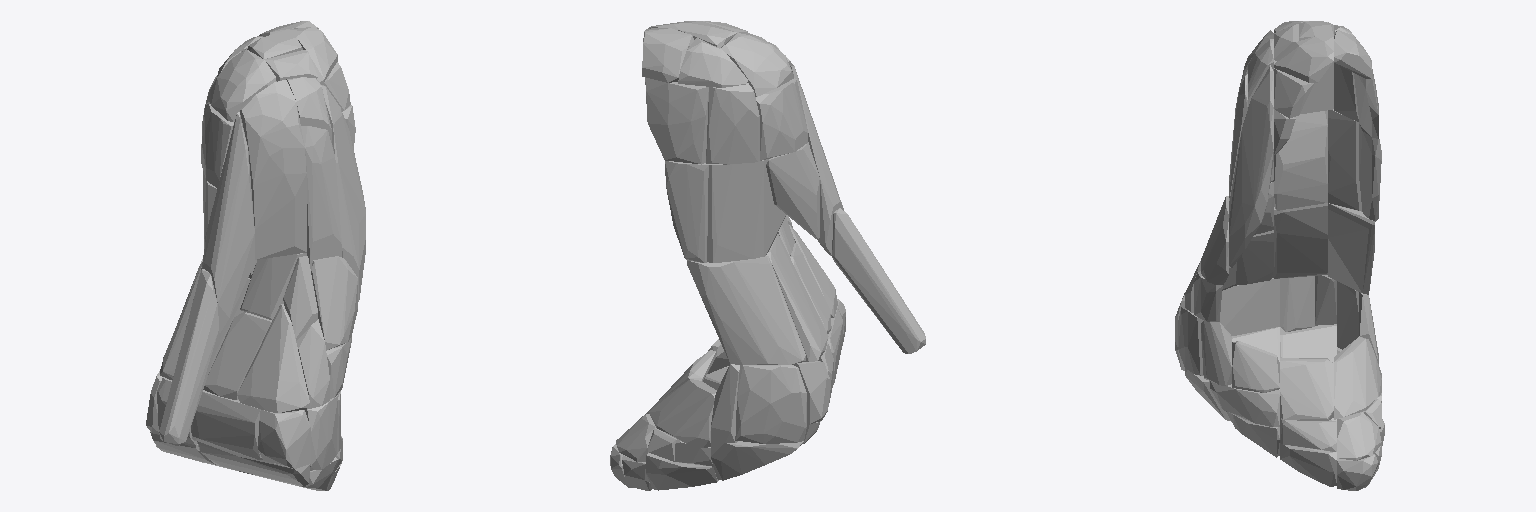
--- Facts derived from the render (not from the file) ---
3 views of the same robot in one strip: view 1: azimuth 30°, elevation 25°; view 2: azimuth 150°, elevation 25°; view 3: azimuth 270°, elevation 25° (orthographic).
Model root with 57 links and 56 joints (56 fixed), rooted at link_4fcd289d3e82bb08588f04a271bfa5eb1_convex_piece_0, posed all joints at 0.
Visible links, largest first — view 1: link_4fcd289d3e82bb08588f04a271bfa5eb1_convex_piece_49, link_4fcd289d3e82bb08588f04a271bfa5eb1_convex_piece_41, link_4fcd289d3e82bb08588f04a271bfa5eb1_convex_piece_0, link_4fcd289d3e82bb08588f04a271bfa5eb1_convex_piece_16, link_4fcd289d3e82bb08588f04a271bfa5eb1_convex_piece_18, link_4fcd289d3e82bb08588f04a271bfa5eb1_convex_piece_5, link_4fcd289d3e82bb08588f04a271bfa5eb1_convex_piece_4, link_4fcd289d3e82bb08588f04a271bfa5eb1_convex_piece_9, link_4fcd289d3e82bb08588f04a271bfa5eb1_convex_piece_17, link_4fcd289d3e82bb08588f04a271bfa5eb1_convex_piece_8, link_4fcd289d3e82bb08588f04a271bfa5eb1_convex_piece_25, link_4fcd289d3e82bb08588f04a271bfa5eb1_convex_piece_48 (+14 smaller); view 2: link_4fcd289d3e82bb08588f04a271bfa5eb1_convex_piece_7, link_4fcd289d3e82bb08588f04a271bfa5eb1_convex_piece_22, link_4fcd289d3e82bb08588f04a271bfa5eb1_convex_piece_36, link_4fcd289d3e82bb08588f04a271bfa5eb1_convex_piece_0, link_4fcd289d3e82bb08588f04a271bfa5eb1_convex_piece_27, link_4fcd289d3e82bb08588f04a271bfa5eb1_convex_piece_26, link_4fcd289d3e82bb08588f04a271bfa5eb1_convex_piece_23, link_4fcd289d3e82bb08588f04a271bfa5eb1_convex_piece_20, link_4fcd289d3e82bb08588f04a271bfa5eb1_convex_piece_15, link_4fcd289d3e82bb08588f04a271bfa5eb1_convex_piece_24, link_4fcd289d3e82bb08588f04a271bfa5eb1_convex_piece_6, link_4fcd289d3e82bb08588f04a271bfa5eb1_convex_piece_25 (+17 smaller); view 3: link_4fcd289d3e82bb08588f04a271bfa5eb1_convex_piece_5, link_4fcd289d3e82bb08588f04a271bfa5eb1_convex_piece_21, link_4fcd289d3e82bb08588f04a271bfa5eb1_convex_piece_6, link_4fcd289d3e82bb08588f04a271bfa5eb1_convex_piece_7, link_4fcd289d3e82bb08588f04a271bfa5eb1_convex_piece_14, link_4fcd289d3e82bb08588f04a271bfa5eb1_convex_piece_15, link_4fcd289d3e82bb08588f04a271bfa5eb1_convex_piece_22, link_4fcd289d3e82bb08588f04a271bfa5eb1_convex_piece_9, link_4fcd289d3e82bb08588f04a271bfa5eb1_convex_piece_33, link_4fcd289d3e82bb08588f04a271bfa5eb1_convex_piece_44, link_4fcd289d3e82bb08588f04a271bfa5eb1_convex_piece_31, link_4fcd289d3e82bb08588f04a271bfa5eb1_convex_piece_34 (+27 smaller).
Boxes of the visible links, left/top/right/bottom form: link_4fcd289d3e82bb08588f04a271bfa5eb1_convex_piece_49: left=240, top=80, right=306, bottom=259; link_4fcd289d3e82bb08588f04a271bfa5eb1_convex_piece_41: left=201, top=112, right=254, bottom=332; link_4fcd289d3e82bb08588f04a271bfa5eb1_convex_piece_0: left=159, top=269, right=218, bottom=445; link_4fcd289d3e82bb08588f04a271bfa5eb1_convex_piece_16: left=237, top=304, right=309, bottom=412; link_4fcd289d3e82bb08588f04a271bfa5eb1_convex_piece_18: left=301, top=126, right=341, bottom=270; link_4fcd289d3e82bb08588f04a271bfa5eb1_convex_piece_5: left=321, top=85, right=365, bottom=301; link_4fcd289d3e82bb08588f04a271bfa5eb1_convex_piece_4: left=311, top=256, right=357, bottom=350; link_4fcd289d3e82bb08588f04a271bfa5eb1_convex_piece_9: left=191, top=390, right=262, bottom=459; link_4fcd289d3e82bb08588f04a271bfa5eb1_convex_piece_17: left=203, top=312, right=271, bottom=399; link_4fcd289d3e82bb08588f04a271bfa5eb1_convex_piece_8: left=258, top=410, right=310, bottom=468; link_4fcd289d3e82bb08588f04a271bfa5eb1_convex_piece_25: left=208, top=49, right=276, bottom=121; link_4fcd289d3e82bb08588f04a271bfa5eb1_convex_piece_48: left=240, top=253, right=306, bottom=320; link_4fcd289d3e82bb08588f04a271bfa5eb1_convex_piece_7: left=687, top=256, right=805, bottom=364; link_4fcd289d3e82bb08588f04a271bfa5eb1_convex_piece_22: left=707, top=160, right=765, bottom=262; link_4fcd289d3e82bb08588f04a271bfa5eb1_convex_piece_36: left=735, top=365, right=806, bottom=443; link_4fcd289d3e82bb08588f04a271bfa5eb1_convex_piece_0: left=832, top=208, right=925, bottom=353; link_4fcd289d3e82bb08588f04a271bfa5eb1_convex_piece_27: left=645, top=77, right=708, bottom=164; link_4fcd289d3e82bb08588f04a271bfa5eb1_convex_piece_26: left=706, top=83, right=759, bottom=164; link_4fcd289d3e82bb08588f04a271bfa5eb1_convex_piece_23: left=665, top=161, right=708, bottom=262; link_4fcd289d3e82bb08588f04a271bfa5eb1_convex_piece_20: left=766, top=142, right=819, bottom=238; link_4fcd289d3e82bb08588f04a271bfa5eb1_convex_piece_15: left=649, top=379, right=716, bottom=447; link_4fcd289d3e82bb08588f04a271bfa5eb1_convex_piece_24: left=756, top=78, right=807, bottom=160; link_4fcd289d3e82bb08588f04a271bfa5eb1_convex_piece_6: left=766, top=234, right=828, bottom=361; link_4fcd289d3e82bb08588f04a271bfa5eb1_convex_piece_25: left=720, top=33, right=793, bottom=96; link_4fcd289d3e82bb08588f04a271bfa5eb1_convex_piece_5: left=1229, top=65, right=1273, bottom=267; link_4fcd289d3e82bb08588f04a271bfa5eb1_convex_piece_21: left=1274, top=110, right=1327, bottom=210; link_4fcd289d3e82bb08588f04a271bfa5eb1_convex_piece_6: left=1274, top=203, right=1327, bottom=278; link_4fcd289d3e82bb08588f04a271bfa5eb1_convex_piece_7: left=1328, top=203, right=1374, bottom=294; link_4fcd289d3e82bb08588f04a271bfa5eb1_convex_piece_14: left=1280, top=358, right=1333, bottom=420; link_4fcd289d3e82bb08588f04a271bfa5eb1_convex_piece_15: left=1334, top=336, right=1381, bottom=419; link_4fcd289d3e82bb08588f04a271bfa5eb1_convex_piece_22: left=1328, top=109, right=1361, bottom=211; link_4fcd289d3e82bb08588f04a271bfa5eb1_convex_piece_9: left=1220, top=278, right=1279, bottom=335; link_4fcd289d3e82bb08588f04a271bfa5eb1_convex_piece_33: left=1232, top=341, right=1279, bottom=392; link_4fcd289d3e82bb08588f04a271bfa5eb1_convex_piece_44: left=1274, top=36, right=1333, bottom=82; link_4fcd289d3e82bb08588f04a271bfa5eb1_convex_piece_31: left=1210, top=381, right=1279, bottom=426; link_4fcd289d3e82bb08588f04a271bfa5eb1_convex_piece_34: left=1280, top=276, right=1314, bottom=331.
Bounding box of the posed robot: 0.0455 × 0.0362 × 0.0827 m (x, y, z).
57 mesh visuals loaded from 57 distinct referenced files (57 OBJ).

URDF robot description (root):
<robot name="root">
  <link name="link_4fcd289d3e82bb08588f04a271bfa5eb1_convex_piece_0">
    <inertial>
      <origin rpy="0 0 0" xyz="0 0 0"/>
      <mass value="1.57E-07"/>
      <inertia ixx="1.96E-11" ixy="1.83E-11" ixz="1.59E-11" iyy="4.86E-11" iyz="7.99E-12" izz="4.72E-11"/>
    </inertial>
    <visual>
      <origin rpy="0 0 0" xyz="0 0 0"/>
      <geometry>
        <mesh filename="4fcd289d3e82bb08588f04a271bfa5eb1_convex_piece_0.obj" scale="1.0000E+00"/>
      </geometry>
      <material name="">
        <color rgba="7.50E-01 7.50E-01 7.50E-01 1"/>
      </material>
    </visual>
    <collision>
      <origin rpy="0 0 0" xyz="0 0 0"/>
      <geometry>
        <mesh filename="4fcd289d3e82bb08588f04a271bfa5eb1_convex_piece_0.obj" scale="1.0000E+00"/>
      </geometry>
    </collision>
  </link>
  <link name="link_4fcd289d3e82bb08588f04a271bfa5eb1_convex_piece_1">
    <inertial>
      <origin rpy="0 0 0" xyz="0 0 0"/>
      <mass value="1.71E-08"/>
      <inertia ixx="2.85E-11" ixy="4.52E-12" ixz="-1.06E-11" iyy="2.88E-11" iyz="-1.03E-11" izz="9.09E-12"/>
    </inertial>
    <visual>
      <origin rpy="0 0 0" xyz="0 0 0"/>
      <geometry>
        <mesh filename="4fcd289d3e82bb08588f04a271bfa5eb1_convex_piece_1.obj" scale="1.0000E+00"/>
      </geometry>
      <material name="">
        <color rgba="7.50E-01 7.50E-01 7.50E-01 1"/>
      </material>
    </visual>
    <collision>
      <origin rpy="0 0 0" xyz="0 0 0"/>
      <geometry>
        <mesh filename="4fcd289d3e82bb08588f04a271bfa5eb1_convex_piece_1.obj" scale="1.0000E+00"/>
      </geometry>
    </collision>
  </link>
  <joint name="link_4fcd289d3e82bb08588f04a271bfa5eb1_convex_piece_1_joint" type="fixed">
    <origin rpy="0 0 0" xyz="0 0 0"/>
    <parent link="link_4fcd289d3e82bb08588f04a271bfa5eb1_convex_piece_0"/>
    <child link="link_4fcd289d3e82bb08588f04a271bfa5eb1_convex_piece_1"/>
  </joint>
  <link name="link_4fcd289d3e82bb08588f04a271bfa5eb1_convex_piece_2">
    <inertial>
      <origin rpy="0 0 0" xyz="0 0 0"/>
      <mass value="1.72E-07"/>
      <inertia ixx="1.33E-10" ixy="2.06E-12" ixz="1.14E-11" iyy="1.23E-10" iyz="3.09E-11" izz="1.42E-11"/>
    </inertial>
    <visual>
      <origin rpy="0 0 0" xyz="0 0 0"/>
      <geometry>
        <mesh filename="4fcd289d3e82bb08588f04a271bfa5eb1_convex_piece_2.obj" scale="1.0000E+00"/>
      </geometry>
      <material name="">
        <color rgba="7.50E-01 7.50E-01 7.50E-01 1"/>
      </material>
    </visual>
    <collision>
      <origin rpy="0 0 0" xyz="0 0 0"/>
      <geometry>
        <mesh filename="4fcd289d3e82bb08588f04a271bfa5eb1_convex_piece_2.obj" scale="1.0000E+00"/>
      </geometry>
    </collision>
  </link>
  <joint name="link_4fcd289d3e82bb08588f04a271bfa5eb1_convex_piece_2_joint" type="fixed">
    <origin rpy="0 0 0" xyz="0 0 0"/>
    <parent link="link_4fcd289d3e82bb08588f04a271bfa5eb1_convex_piece_1"/>
    <child link="link_4fcd289d3e82bb08588f04a271bfa5eb1_convex_piece_2"/>
  </joint>
  <link name="link_4fcd289d3e82bb08588f04a271bfa5eb1_convex_piece_3">
    <inertial>
      <origin rpy="0 0 0" xyz="0 0 0"/>
      <mass value="3.84E-08"/>
      <inertia ixx="9.57E-12" ixy="-4.23E-12" ixz="-3.29E-12" iyy="6.94E-12" iyz="4.55E-12" izz="9.05E-12"/>
    </inertial>
    <visual>
      <origin rpy="0 0 0" xyz="0 0 0"/>
      <geometry>
        <mesh filename="4fcd289d3e82bb08588f04a271bfa5eb1_convex_piece_3.obj" scale="1.0000E+00"/>
      </geometry>
      <material name="">
        <color rgba="7.50E-01 7.50E-01 7.50E-01 1"/>
      </material>
    </visual>
    <collision>
      <origin rpy="0 0 0" xyz="0 0 0"/>
      <geometry>
        <mesh filename="4fcd289d3e82bb08588f04a271bfa5eb1_convex_piece_3.obj" scale="1.0000E+00"/>
      </geometry>
    </collision>
  </link>
  <joint name="link_4fcd289d3e82bb08588f04a271bfa5eb1_convex_piece_3_joint" type="fixed">
    <origin rpy="0 0 0" xyz="0 0 0"/>
    <parent link="link_4fcd289d3e82bb08588f04a271bfa5eb1_convex_piece_2"/>
    <child link="link_4fcd289d3e82bb08588f04a271bfa5eb1_convex_piece_3"/>
  </joint>
  <link name="link_4fcd289d3e82bb08588f04a271bfa5eb1_convex_piece_4">
    <inertial>
      <origin rpy="0 0 0" xyz="0 0 0"/>
      <mass value="8.29E-08"/>
      <inertia ixx="9.86E-12" ixy="-8.49E-12" ixz="9.23E-14" iyy="9.59E-12" iyz="9.38E-14" izz="1.75E-11"/>
    </inertial>
    <visual>
      <origin rpy="0 0 0" xyz="0 0 0"/>
      <geometry>
        <mesh filename="4fcd289d3e82bb08588f04a271bfa5eb1_convex_piece_4.obj" scale="1.0000E+00"/>
      </geometry>
      <material name="">
        <color rgba="7.50E-01 7.50E-01 7.50E-01 1"/>
      </material>
    </visual>
    <collision>
      <origin rpy="0 0 0" xyz="0 0 0"/>
      <geometry>
        <mesh filename="4fcd289d3e82bb08588f04a271bfa5eb1_convex_piece_4.obj" scale="1.0000E+00"/>
      </geometry>
    </collision>
  </link>
  <joint name="link_4fcd289d3e82bb08588f04a271bfa5eb1_convex_piece_4_joint" type="fixed">
    <origin rpy="0 0 0" xyz="0 0 0"/>
    <parent link="link_4fcd289d3e82bb08588f04a271bfa5eb1_convex_piece_3"/>
    <child link="link_4fcd289d3e82bb08588f04a271bfa5eb1_convex_piece_4"/>
  </joint>
  <link name="link_4fcd289d3e82bb08588f04a271bfa5eb1_convex_piece_5">
    <inertial>
      <origin rpy="0 0 0" xyz="0 0 0"/>
      <mass value="1.77E-07"/>
      <inertia ixx="6.44E-11" ixy="-1.23E-11" ixz="4.41E-11" iyy="1.02E-10" iyz="-1.13E-11" izz="4.59E-11"/>
    </inertial>
    <visual>
      <origin rpy="0 0 0" xyz="0 0 0"/>
      <geometry>
        <mesh filename="4fcd289d3e82bb08588f04a271bfa5eb1_convex_piece_5.obj" scale="1.0000E+00"/>
      </geometry>
      <material name="">
        <color rgba="7.50E-01 7.50E-01 7.50E-01 1"/>
      </material>
    </visual>
    <collision>
      <origin rpy="0 0 0" xyz="0 0 0"/>
      <geometry>
        <mesh filename="4fcd289d3e82bb08588f04a271bfa5eb1_convex_piece_5.obj" scale="1.0000E+00"/>
      </geometry>
    </collision>
  </link>
  <joint name="link_4fcd289d3e82bb08588f04a271bfa5eb1_convex_piece_5_joint" type="fixed">
    <origin rpy="0 0 0" xyz="0 0 0"/>
    <parent link="link_4fcd289d3e82bb08588f04a271bfa5eb1_convex_piece_4"/>
    <child link="link_4fcd289d3e82bb08588f04a271bfa5eb1_convex_piece_5"/>
  </joint>
  <link name="link_4fcd289d3e82bb08588f04a271bfa5eb1_convex_piece_6">
    <inertial>
      <origin rpy="0 0 0" xyz="0 0 0"/>
      <mass value="2.34E-07"/>
      <inertia ixx="1.77E-11" ixy="-5.59E-12" ixz="1.00E-11" iyy="2.16E-11" iyz="-5.01E-12" izz="1.42E-11"/>
    </inertial>
    <visual>
      <origin rpy="0 0 0" xyz="0 0 0"/>
      <geometry>
        <mesh filename="4fcd289d3e82bb08588f04a271bfa5eb1_convex_piece_6.obj" scale="1.0000E+00"/>
      </geometry>
      <material name="">
        <color rgba="7.50E-01 7.50E-01 7.50E-01 1"/>
      </material>
    </visual>
    <collision>
      <origin rpy="0 0 0" xyz="0 0 0"/>
      <geometry>
        <mesh filename="4fcd289d3e82bb08588f04a271bfa5eb1_convex_piece_6.obj" scale="1.0000E+00"/>
      </geometry>
    </collision>
  </link>
  <joint name="link_4fcd289d3e82bb08588f04a271bfa5eb1_convex_piece_6_joint" type="fixed">
    <origin rpy="0 0 0" xyz="0 0 0"/>
    <parent link="link_4fcd289d3e82bb08588f04a271bfa5eb1_convex_piece_5"/>
    <child link="link_4fcd289d3e82bb08588f04a271bfa5eb1_convex_piece_6"/>
  </joint>
  <link name="link_4fcd289d3e82bb08588f04a271bfa5eb1_convex_piece_7">
    <inertial>
      <origin rpy="0 0 0" xyz="0 0 0"/>
      <mass value="2.21E-07"/>
      <inertia ixx="4.40E-11" ixy="-4.95E-12" ixz="4.84E-12" iyy="1.45E-11" iyz="-1.31E-11" izz="3.69E-11"/>
    </inertial>
    <visual>
      <origin rpy="0 0 0" xyz="0 0 0"/>
      <geometry>
        <mesh filename="4fcd289d3e82bb08588f04a271bfa5eb1_convex_piece_7.obj" scale="1.0000E+00"/>
      </geometry>
      <material name="">
        <color rgba="7.50E-01 7.50E-01 7.50E-01 1"/>
      </material>
    </visual>
    <collision>
      <origin rpy="0 0 0" xyz="0 0 0"/>
      <geometry>
        <mesh filename="4fcd289d3e82bb08588f04a271bfa5eb1_convex_piece_7.obj" scale="1.0000E+00"/>
      </geometry>
    </collision>
  </link>
  <joint name="link_4fcd289d3e82bb08588f04a271bfa5eb1_convex_piece_7_joint" type="fixed">
    <origin rpy="0 0 0" xyz="0 0 0"/>
    <parent link="link_4fcd289d3e82bb08588f04a271bfa5eb1_convex_piece_6"/>
    <child link="link_4fcd289d3e82bb08588f04a271bfa5eb1_convex_piece_7"/>
  </joint>
  <link name="link_4fcd289d3e82bb08588f04a271bfa5eb1_convex_piece_8">
    <inertial>
      <origin rpy="0 0 0" xyz="0 0 0"/>
      <mass value="8.06E-08"/>
      <inertia ixx="4.74E-11" ixy="2.54E-12" ixz="3.29E-12" iyy="2.95E-11" iyz="2.29E-11" izz="1.91E-11"/>
    </inertial>
    <visual>
      <origin rpy="0 0 0" xyz="0 0 0"/>
      <geometry>
        <mesh filename="4fcd289d3e82bb08588f04a271bfa5eb1_convex_piece_8.obj" scale="1.0000E+00"/>
      </geometry>
      <material name="">
        <color rgba="7.50E-01 7.50E-01 7.50E-01 1"/>
      </material>
    </visual>
    <collision>
      <origin rpy="0 0 0" xyz="0 0 0"/>
      <geometry>
        <mesh filename="4fcd289d3e82bb08588f04a271bfa5eb1_convex_piece_8.obj" scale="1.0000E+00"/>
      </geometry>
    </collision>
  </link>
  <joint name="link_4fcd289d3e82bb08588f04a271bfa5eb1_convex_piece_8_joint" type="fixed">
    <origin rpy="0 0 0" xyz="0 0 0"/>
    <parent link="link_4fcd289d3e82bb08588f04a271bfa5eb1_convex_piece_7"/>
    <child link="link_4fcd289d3e82bb08588f04a271bfa5eb1_convex_piece_8"/>
  </joint>
  <link name="link_4fcd289d3e82bb08588f04a271bfa5eb1_convex_piece_9">
    <inertial>
      <origin rpy="0 0 0" xyz="0 0 0"/>
      <mass value="1.52E-07"/>
      <inertia ixx="6.17E-11" ixy="5.64E-12" ixz="1.97E-11" iyy="6.18E-11" iyz="1.76E-11" izz="1.56E-11"/>
    </inertial>
    <visual>
      <origin rpy="0 0 0" xyz="0 0 0"/>
      <geometry>
        <mesh filename="4fcd289d3e82bb08588f04a271bfa5eb1_convex_piece_9.obj" scale="1.0000E+00"/>
      </geometry>
      <material name="">
        <color rgba="7.50E-01 7.50E-01 7.50E-01 1"/>
      </material>
    </visual>
    <collision>
      <origin rpy="0 0 0" xyz="0 0 0"/>
      <geometry>
        <mesh filename="4fcd289d3e82bb08588f04a271bfa5eb1_convex_piece_9.obj" scale="1.0000E+00"/>
      </geometry>
    </collision>
  </link>
  <joint name="link_4fcd289d3e82bb08588f04a271bfa5eb1_convex_piece_9_joint" type="fixed">
    <origin rpy="0 0 0" xyz="0 0 0"/>
    <parent link="link_4fcd289d3e82bb08588f04a271bfa5eb1_convex_piece_8"/>
    <child link="link_4fcd289d3e82bb08588f04a271bfa5eb1_convex_piece_9"/>
  </joint>
  <link name="link_4fcd289d3e82bb08588f04a271bfa5eb1_convex_piece_10">
    <inertial>
      <origin rpy="0 0 0" xyz="0 0 0"/>
      <mass value="1.78E-07"/>
      <inertia ixx="1.71E-10" ixy="-6.99E-12" ixz="-2.83E-11" iyy="1.64E-10" iyz="3.88E-11" izz="1.87E-11"/>
    </inertial>
    <visual>
      <origin rpy="0 0 0" xyz="0 0 0"/>
      <geometry>
        <mesh filename="4fcd289d3e82bb08588f04a271bfa5eb1_convex_piece_10.obj" scale="1.0000E+00"/>
      </geometry>
      <material name="">
        <color rgba="7.50E-01 7.50E-01 7.50E-01 1"/>
      </material>
    </visual>
    <collision>
      <origin rpy="0 0 0" xyz="0 0 0"/>
      <geometry>
        <mesh filename="4fcd289d3e82bb08588f04a271bfa5eb1_convex_piece_10.obj" scale="1.0000E+00"/>
      </geometry>
    </collision>
  </link>
  <joint name="link_4fcd289d3e82bb08588f04a271bfa5eb1_convex_piece_10_joint" type="fixed">
    <origin rpy="0 0 0" xyz="0 0 0"/>
    <parent link="link_4fcd289d3e82bb08588f04a271bfa5eb1_convex_piece_9"/>
    <child link="link_4fcd289d3e82bb08588f04a271bfa5eb1_convex_piece_10"/>
  </joint>
  <link name="link_4fcd289d3e82bb08588f04a271bfa5eb1_convex_piece_11">
    <inertial>
      <origin rpy="0 0 0" xyz="0 0 0"/>
      <mass value="8.00E-08"/>
      <inertia ixx="4.89E-11" ixy="-5.71E-12" ixz="-7.90E-12" iyy="3.41E-11" iyz="2.29E-11" izz="1.94E-11"/>
    </inertial>
    <visual>
      <origin rpy="0 0 0" xyz="0 0 0"/>
      <geometry>
        <mesh filename="4fcd289d3e82bb08588f04a271bfa5eb1_convex_piece_11.obj" scale="1.0000E+00"/>
      </geometry>
      <material name="">
        <color rgba="7.50E-01 7.50E-01 7.50E-01 1"/>
      </material>
    </visual>
    <collision>
      <origin rpy="0 0 0" xyz="0 0 0"/>
      <geometry>
        <mesh filename="4fcd289d3e82bb08588f04a271bfa5eb1_convex_piece_11.obj" scale="1.0000E+00"/>
      </geometry>
    </collision>
  </link>
  <joint name="link_4fcd289d3e82bb08588f04a271bfa5eb1_convex_piece_11_joint" type="fixed">
    <origin rpy="0 0 0" xyz="0 0 0"/>
    <parent link="link_4fcd289d3e82bb08588f04a271bfa5eb1_convex_piece_10"/>
    <child link="link_4fcd289d3e82bb08588f04a271bfa5eb1_convex_piece_11"/>
  </joint>
  <link name="link_4fcd289d3e82bb08588f04a271bfa5eb1_convex_piece_12">
    <inertial>
      <origin rpy="0 0 0" xyz="0 0 0"/>
      <mass value="1.77E-07"/>
      <inertia ixx="1.54E-10" ixy="-5.19E-12" ixz="2.45E-11" iyy="1.55E-10" iyz="-2.76E-11" izz="1.35E-11"/>
    </inertial>
    <visual>
      <origin rpy="0 0 0" xyz="0 0 0"/>
      <geometry>
        <mesh filename="4fcd289d3e82bb08588f04a271bfa5eb1_convex_piece_12.obj" scale="1.0000E+00"/>
      </geometry>
      <material name="">
        <color rgba="7.50E-01 7.50E-01 7.50E-01 1"/>
      </material>
    </visual>
    <collision>
      <origin rpy="0 0 0" xyz="0 0 0"/>
      <geometry>
        <mesh filename="4fcd289d3e82bb08588f04a271bfa5eb1_convex_piece_12.obj" scale="1.0000E+00"/>
      </geometry>
    </collision>
  </link>
  <joint name="link_4fcd289d3e82bb08588f04a271bfa5eb1_convex_piece_12_joint" type="fixed">
    <origin rpy="0 0 0" xyz="0 0 0"/>
    <parent link="link_4fcd289d3e82bb08588f04a271bfa5eb1_convex_piece_11"/>
    <child link="link_4fcd289d3e82bb08588f04a271bfa5eb1_convex_piece_12"/>
  </joint>
  <link name="link_4fcd289d3e82bb08588f04a271bfa5eb1_convex_piece_13">
    <inertial>
      <origin rpy="0 0 0" xyz="0 0 0"/>
      <mass value="9.97E-08"/>
      <inertia ixx="1.13E-10" ixy="-3.08E-12" ixz="7.50E-12" iyy="9.71E-11" iyz="-4.00E-11" izz="1.86E-11"/>
    </inertial>
    <visual>
      <origin rpy="0 0 0" xyz="0 0 0"/>
      <geometry>
        <mesh filename="4fcd289d3e82bb08588f04a271bfa5eb1_convex_piece_13.obj" scale="1.0000E+00"/>
      </geometry>
      <material name="">
        <color rgba="7.50E-01 7.50E-01 7.50E-01 1"/>
      </material>
    </visual>
    <collision>
      <origin rpy="0 0 0" xyz="0 0 0"/>
      <geometry>
        <mesh filename="4fcd289d3e82bb08588f04a271bfa5eb1_convex_piece_13.obj" scale="1.0000E+00"/>
      </geometry>
    </collision>
  </link>
  <joint name="link_4fcd289d3e82bb08588f04a271bfa5eb1_convex_piece_13_joint" type="fixed">
    <origin rpy="0 0 0" xyz="0 0 0"/>
    <parent link="link_4fcd289d3e82bb08588f04a271bfa5eb1_convex_piece_12"/>
    <child link="link_4fcd289d3e82bb08588f04a271bfa5eb1_convex_piece_13"/>
  </joint>
  <link name="link_4fcd289d3e82bb08588f04a271bfa5eb1_convex_piece_14">
    <inertial>
      <origin rpy="0 0 0" xyz="0 0 0"/>
      <mass value="8.33E-08"/>
      <inertia ixx="5.50E-11" ixy="5.32E-12" ixz="-2.79E-11" iyy="6.74E-11" iyz="-1.02E-11" izz="1.75E-11"/>
    </inertial>
    <visual>
      <origin rpy="0 0 0" xyz="0 0 0"/>
      <geometry>
        <mesh filename="4fcd289d3e82bb08588f04a271bfa5eb1_convex_piece_14.obj" scale="1.0000E+00"/>
      </geometry>
      <material name="">
        <color rgba="7.50E-01 7.50E-01 7.50E-01 1"/>
      </material>
    </visual>
    <collision>
      <origin rpy="0 0 0" xyz="0 0 0"/>
      <geometry>
        <mesh filename="4fcd289d3e82bb08588f04a271bfa5eb1_convex_piece_14.obj" scale="1.0000E+00"/>
      </geometry>
    </collision>
  </link>
  <joint name="link_4fcd289d3e82bb08588f04a271bfa5eb1_convex_piece_14_joint" type="fixed">
    <origin rpy="0 0 0" xyz="0 0 0"/>
    <parent link="link_4fcd289d3e82bb08588f04a271bfa5eb1_convex_piece_13"/>
    <child link="link_4fcd289d3e82bb08588f04a271bfa5eb1_convex_piece_14"/>
  </joint>
  <link name="link_4fcd289d3e82bb08588f04a271bfa5eb1_convex_piece_15">
    <inertial>
      <origin rpy="0 0 0" xyz="0 0 0"/>
      <mass value="1.15E-07"/>
      <inertia ixx="9.80E-11" ixy="1.18E-11" ixz="-2.42E-11" iyy="8.59E-11" iyz="-3.98E-11" izz="2.98E-11"/>
    </inertial>
    <visual>
      <origin rpy="0 0 0" xyz="0 0 0"/>
      <geometry>
        <mesh filename="4fcd289d3e82bb08588f04a271bfa5eb1_convex_piece_15.obj" scale="1.0000E+00"/>
      </geometry>
      <material name="">
        <color rgba="7.50E-01 7.50E-01 7.50E-01 1"/>
      </material>
    </visual>
    <collision>
      <origin rpy="0 0 0" xyz="0 0 0"/>
      <geometry>
        <mesh filename="4fcd289d3e82bb08588f04a271bfa5eb1_convex_piece_15.obj" scale="1.0000E+00"/>
      </geometry>
    </collision>
  </link>
  <joint name="link_4fcd289d3e82bb08588f04a271bfa5eb1_convex_piece_15_joint" type="fixed">
    <origin rpy="0 0 0" xyz="0 0 0"/>
    <parent link="link_4fcd289d3e82bb08588f04a271bfa5eb1_convex_piece_14"/>
    <child link="link_4fcd289d3e82bb08588f04a271bfa5eb1_convex_piece_15"/>
  </joint>
  <link name="link_4fcd289d3e82bb08588f04a271bfa5eb1_convex_piece_16">
    <inertial>
      <origin rpy="0 0 0" xyz="0 0 0"/>
      <mass value="1.08E-07"/>
      <inertia ixx="2.39E-11" ixy="1.41E-12" ixz="1.68E-12" iyy="1.09E-11" iyz="1.13E-11" izz="1.41E-11"/>
    </inertial>
    <visual>
      <origin rpy="0 0 0" xyz="0 0 0"/>
      <geometry>
        <mesh filename="4fcd289d3e82bb08588f04a271bfa5eb1_convex_piece_16.obj" scale="1.0000E+00"/>
      </geometry>
      <material name="">
        <color rgba="7.50E-01 7.50E-01 7.50E-01 1"/>
      </material>
    </visual>
    <collision>
      <origin rpy="0 0 0" xyz="0 0 0"/>
      <geometry>
        <mesh filename="4fcd289d3e82bb08588f04a271bfa5eb1_convex_piece_16.obj" scale="1.0000E+00"/>
      </geometry>
    </collision>
  </link>
  <joint name="link_4fcd289d3e82bb08588f04a271bfa5eb1_convex_piece_16_joint" type="fixed">
    <origin rpy="0 0 0" xyz="0 0 0"/>
    <parent link="link_4fcd289d3e82bb08588f04a271bfa5eb1_convex_piece_15"/>
    <child link="link_4fcd289d3e82bb08588f04a271bfa5eb1_convex_piece_16"/>
  </joint>
  <link name="link_4fcd289d3e82bb08588f04a271bfa5eb1_convex_piece_17">
    <inertial>
      <origin rpy="0 0 0" xyz="0 0 0"/>
      <mass value="9.58E-08"/>
      <inertia ixx="8.91E-12" ixy="1.38E-12" ixz="3.50E-12" iyy="8.76E-12" iyz="3.15E-12" izz="3.94E-12"/>
    </inertial>
    <visual>
      <origin rpy="0 0 0" xyz="0 0 0"/>
      <geometry>
        <mesh filename="4fcd289d3e82bb08588f04a271bfa5eb1_convex_piece_17.obj" scale="1.0000E+00"/>
      </geometry>
      <material name="">
        <color rgba="7.50E-01 7.50E-01 7.50E-01 1"/>
      </material>
    </visual>
    <collision>
      <origin rpy="0 0 0" xyz="0 0 0"/>
      <geometry>
        <mesh filename="4fcd289d3e82bb08588f04a271bfa5eb1_convex_piece_17.obj" scale="1.0000E+00"/>
      </geometry>
    </collision>
  </link>
  <joint name="link_4fcd289d3e82bb08588f04a271bfa5eb1_convex_piece_17_joint" type="fixed">
    <origin rpy="0 0 0" xyz="0 0 0"/>
    <parent link="link_4fcd289d3e82bb08588f04a271bfa5eb1_convex_piece_16"/>
    <child link="link_4fcd289d3e82bb08588f04a271bfa5eb1_convex_piece_17"/>
  </joint>
  <link name="link_4fcd289d3e82bb08588f04a271bfa5eb1_convex_piece_18">
    <inertial>
      <origin rpy="0 0 0" xyz="0 0 0"/>
      <mass value="1.01E-07"/>
      <inertia ixx="3.90E-11" ixy="-6.47E-12" ixz="1.57E-11" iyy="4.26E-11" iyz="-1.17E-11" izz="1.36E-11"/>
    </inertial>
    <visual>
      <origin rpy="0 0 0" xyz="0 0 0"/>
      <geometry>
        <mesh filename="4fcd289d3e82bb08588f04a271bfa5eb1_convex_piece_18.obj" scale="1.0000E+00"/>
      </geometry>
      <material name="">
        <color rgba="7.50E-01 7.50E-01 7.50E-01 1"/>
      </material>
    </visual>
    <collision>
      <origin rpy="0 0 0" xyz="0 0 0"/>
      <geometry>
        <mesh filename="4fcd289d3e82bb08588f04a271bfa5eb1_convex_piece_18.obj" scale="1.0000E+00"/>
      </geometry>
    </collision>
  </link>
  <joint name="link_4fcd289d3e82bb08588f04a271bfa5eb1_convex_piece_18_joint" type="fixed">
    <origin rpy="0 0 0" xyz="0 0 0"/>
    <parent link="link_4fcd289d3e82bb08588f04a271bfa5eb1_convex_piece_17"/>
    <child link="link_4fcd289d3e82bb08588f04a271bfa5eb1_convex_piece_18"/>
  </joint>
  <link name="link_4fcd289d3e82bb08588f04a271bfa5eb1_convex_piece_19">
    <inertial>
      <origin rpy="0 0 0" xyz="0 0 0"/>
      <mass value="5.59E-08"/>
      <inertia ixx="5.85E-11" ixy="-1.80E-12" ixz="1.68E-11" iyy="6.30E-11" iyz="-5.90E-12" izz="5.82E-12"/>
    </inertial>
    <visual>
      <origin rpy="0 0 0" xyz="0 0 0"/>
      <geometry>
        <mesh filename="4fcd289d3e82bb08588f04a271bfa5eb1_convex_piece_19.obj" scale="1.0000E+00"/>
      </geometry>
      <material name="">
        <color rgba="7.50E-01 7.50E-01 7.50E-01 1"/>
      </material>
    </visual>
    <collision>
      <origin rpy="0 0 0" xyz="0 0 0"/>
      <geometry>
        <mesh filename="4fcd289d3e82bb08588f04a271bfa5eb1_convex_piece_19.obj" scale="1.0000E+00"/>
      </geometry>
    </collision>
  </link>
  <joint name="link_4fcd289d3e82bb08588f04a271bfa5eb1_convex_piece_19_joint" type="fixed">
    <origin rpy="0 0 0" xyz="0 0 0"/>
    <parent link="link_4fcd289d3e82bb08588f04a271bfa5eb1_convex_piece_18"/>
    <child link="link_4fcd289d3e82bb08588f04a271bfa5eb1_convex_piece_19"/>
  </joint>
  <link name="link_4fcd289d3e82bb08588f04a271bfa5eb1_convex_piece_20">
    <inertial>
      <origin rpy="0 0 0" xyz="0 0 0"/>
      <mass value="1.05E-07"/>
      <inertia ixx="2.46E-11" ixy="-1.02E-12" ixz="-8.26E-12" iyy="2.72E-11" iyz="3.18E-12" izz="4.09E-12"/>
    </inertial>
    <visual>
      <origin rpy="0 0 0" xyz="0 0 0"/>
      <geometry>
        <mesh filename="4fcd289d3e82bb08588f04a271bfa5eb1_convex_piece_20.obj" scale="1.0000E+00"/>
      </geometry>
      <material name="">
        <color rgba="7.50E-01 7.50E-01 7.50E-01 1"/>
      </material>
    </visual>
    <collision>
      <origin rpy="0 0 0" xyz="0 0 0"/>
      <geometry>
        <mesh filename="4fcd289d3e82bb08588f04a271bfa5eb1_convex_piece_20.obj" scale="1.0000E+00"/>
      </geometry>
    </collision>
  </link>
  <joint name="link_4fcd289d3e82bb08588f04a271bfa5eb1_convex_piece_20_joint" type="fixed">
    <origin rpy="0 0 0" xyz="0 0 0"/>
    <parent link="link_4fcd289d3e82bb08588f04a271bfa5eb1_convex_piece_19"/>
    <child link="link_4fcd289d3e82bb08588f04a271bfa5eb1_convex_piece_20"/>
  </joint>
  <link name="link_4fcd289d3e82bb08588f04a271bfa5eb1_convex_piece_21">
    <inertial>
      <origin rpy="0 0 0" xyz="0 0 0"/>
      <mass value="2.78E-07"/>
      <inertia ixx="5.42E-11" ixy="-1.24E-12" ixz="-2.95E-12" iyy="5.06E-11" iyz="1.08E-11" izz="5.44E-12"/>
    </inertial>
    <visual>
      <origin rpy="0 0 0" xyz="0 0 0"/>
      <geometry>
        <mesh filename="4fcd289d3e82bb08588f04a271bfa5eb1_convex_piece_21.obj" scale="1.0000E+00"/>
      </geometry>
      <material name="">
        <color rgba="7.50E-01 7.50E-01 7.50E-01 1"/>
      </material>
    </visual>
    <collision>
      <origin rpy="0 0 0" xyz="0 0 0"/>
      <geometry>
        <mesh filename="4fcd289d3e82bb08588f04a271bfa5eb1_convex_piece_21.obj" scale="1.0000E+00"/>
      </geometry>
    </collision>
  </link>
  <joint name="link_4fcd289d3e82bb08588f04a271bfa5eb1_convex_piece_21_joint" type="fixed">
    <origin rpy="0 0 0" xyz="0 0 0"/>
    <parent link="link_4fcd289d3e82bb08588f04a271bfa5eb1_convex_piece_20"/>
    <child link="link_4fcd289d3e82bb08588f04a271bfa5eb1_convex_piece_21"/>
  </joint>
  <link name="link_4fcd289d3e82bb08588f04a271bfa5eb1_convex_piece_22">
    <inertial>
      <origin rpy="0 0 0" xyz="0 0 0"/>
      <mass value="1.23E-07"/>
      <inertia ixx="3.69E-11" ixy="6.61E-13" ixz="4.12E-13" iyy="2.09E-11" iyz="1.67E-11" izz="1.67E-11"/>
    </inertial>
    <visual>
      <origin rpy="0 0 0" xyz="0 0 0"/>
      <geometry>
        <mesh filename="4fcd289d3e82bb08588f04a271bfa5eb1_convex_piece_22.obj" scale="1.0000E+00"/>
      </geometry>
      <material name="">
        <color rgba="7.50E-01 7.50E-01 7.50E-01 1"/>
      </material>
    </visual>
    <collision>
      <origin rpy="0 0 0" xyz="0 0 0"/>
      <geometry>
        <mesh filename="4fcd289d3e82bb08588f04a271bfa5eb1_convex_piece_22.obj" scale="1.0000E+00"/>
      </geometry>
    </collision>
  </link>
  <joint name="link_4fcd289d3e82bb08588f04a271bfa5eb1_convex_piece_22_joint" type="fixed">
    <origin rpy="0 0 0" xyz="0 0 0"/>
    <parent link="link_4fcd289d3e82bb08588f04a271bfa5eb1_convex_piece_21"/>
    <child link="link_4fcd289d3e82bb08588f04a271bfa5eb1_convex_piece_22"/>
  </joint>
  <link name="link_4fcd289d3e82bb08588f04a271bfa5eb1_convex_piece_23">
    <inertial>
      <origin rpy="0 0 0" xyz="0 0 0"/>
      <mass value="6.65E-08"/>
      <inertia ixx="2.95E-11" ixy="6.77E-12" ixz="5.80E-12" iyy="1.60E-11" iyz="1.38E-11" izz="1.94E-11"/>
    </inertial>
    <visual>
      <origin rpy="0 0 0" xyz="0 0 0"/>
      <geometry>
        <mesh filename="4fcd289d3e82bb08588f04a271bfa5eb1_convex_piece_23.obj" scale="1.0000E+00"/>
      </geometry>
      <material name="">
        <color rgba="7.50E-01 7.50E-01 7.50E-01 1"/>
      </material>
    </visual>
    <collision>
      <origin rpy="0 0 0" xyz="0 0 0"/>
      <geometry>
        <mesh filename="4fcd289d3e82bb08588f04a271bfa5eb1_convex_piece_23.obj" scale="1.0000E+00"/>
      </geometry>
    </collision>
  </link>
  <joint name="link_4fcd289d3e82bb08588f04a271bfa5eb1_convex_piece_23_joint" type="fixed">
    <origin rpy="0 0 0" xyz="0 0 0"/>
    <parent link="link_4fcd289d3e82bb08588f04a271bfa5eb1_convex_piece_22"/>
    <child link="link_4fcd289d3e82bb08588f04a271bfa5eb1_convex_piece_23"/>
  </joint>
  <link name="link_4fcd289d3e82bb08588f04a271bfa5eb1_convex_piece_24">
    <inertial>
      <origin rpy="0 0 0" xyz="0 0 0"/>
      <mass value="2.16E-07"/>
      <inertia ixx="1.57E-10" ixy="-2.09E-12" ixz="-1.45E-11" iyy="1.54E-10" iyz="2.08E-11" izz="6.44E-12"/>
    </inertial>
    <visual>
      <origin rpy="0 0 0" xyz="0 0 0"/>
      <geometry>
        <mesh filename="4fcd289d3e82bb08588f04a271bfa5eb1_convex_piece_24.obj" scale="1.0000E+00"/>
      </geometry>
      <material name="">
        <color rgba="7.50E-01 7.50E-01 7.50E-01 1"/>
      </material>
    </visual>
    <collision>
      <origin rpy="0 0 0" xyz="0 0 0"/>
      <geometry>
        <mesh filename="4fcd289d3e82bb08588f04a271bfa5eb1_convex_piece_24.obj" scale="1.0000E+00"/>
      </geometry>
    </collision>
  </link>
  <joint name="link_4fcd289d3e82bb08588f04a271bfa5eb1_convex_piece_24_joint" type="fixed">
    <origin rpy="0 0 0" xyz="0 0 0"/>
    <parent link="link_4fcd289d3e82bb08588f04a271bfa5eb1_convex_piece_23"/>
    <child link="link_4fcd289d3e82bb08588f04a271bfa5eb1_convex_piece_24"/>
  </joint>
  <link name="link_4fcd289d3e82bb08588f04a271bfa5eb1_convex_piece_25">
    <inertial>
      <origin rpy="0 0 0" xyz="0 0 0"/>
      <mass value="1.19E-07"/>
      <inertia ixx="1.58E-10" ixy="3.08E-13" ixz="2.83E-12" iyy="1.55E-10" iyz="1.76E-11" izz="3.45E-12"/>
    </inertial>
    <visual>
      <origin rpy="0 0 0" xyz="0 0 0"/>
      <geometry>
        <mesh filename="4fcd289d3e82bb08588f04a271bfa5eb1_convex_piece_25.obj" scale="1.0000E+00"/>
      </geometry>
      <material name="">
        <color rgba="7.50E-01 7.50E-01 7.50E-01 1"/>
      </material>
    </visual>
    <collision>
      <origin rpy="0 0 0" xyz="0 0 0"/>
      <geometry>
        <mesh filename="4fcd289d3e82bb08588f04a271bfa5eb1_convex_piece_25.obj" scale="1.0000E+00"/>
      </geometry>
    </collision>
  </link>
  <joint name="link_4fcd289d3e82bb08588f04a271bfa5eb1_convex_piece_25_joint" type="fixed">
    <origin rpy="0 0 0" xyz="0 0 0"/>
    <parent link="link_4fcd289d3e82bb08588f04a271bfa5eb1_convex_piece_24"/>
    <child link="link_4fcd289d3e82bb08588f04a271bfa5eb1_convex_piece_25"/>
  </joint>
  <link name="link_4fcd289d3e82bb08588f04a271bfa5eb1_convex_piece_26">
    <inertial>
      <origin rpy="0 0 0" xyz="0 0 0"/>
      <mass value="8.07E-08"/>
      <inertia ixx="7.54E-11" ixy="1.02E-12" ixz="2.21E-12" iyy="6.44E-11" iyz="2.65E-11" izz="1.16E-11"/>
    </inertial>
    <visual>
      <origin rpy="0 0 0" xyz="0 0 0"/>
      <geometry>
        <mesh filename="4fcd289d3e82bb08588f04a271bfa5eb1_convex_piece_26.obj" scale="1.0000E+00"/>
      </geometry>
      <material name="">
        <color rgba="7.50E-01 7.50E-01 7.50E-01 1"/>
      </material>
    </visual>
    <collision>
      <origin rpy="0 0 0" xyz="0 0 0"/>
      <geometry>
        <mesh filename="4fcd289d3e82bb08588f04a271bfa5eb1_convex_piece_26.obj" scale="1.0000E+00"/>
      </geometry>
    </collision>
  </link>
  <joint name="link_4fcd289d3e82bb08588f04a271bfa5eb1_convex_piece_26_joint" type="fixed">
    <origin rpy="0 0 0" xyz="0 0 0"/>
    <parent link="link_4fcd289d3e82bb08588f04a271bfa5eb1_convex_piece_25"/>
    <child link="link_4fcd289d3e82bb08588f04a271bfa5eb1_convex_piece_26"/>
  </joint>
  <link name="link_4fcd289d3e82bb08588f04a271bfa5eb1_convex_piece_27">
    <inertial>
      <origin rpy="0 0 0" xyz="0 0 0"/>
      <mass value="9.61E-08"/>
      <inertia ixx="1.02E-10" ixy="1.29E-11" ixz="2.44E-11" iyy="8.81E-11" iyz="4.17E-11" izz="3.03E-11"/>
    </inertial>
    <visual>
      <origin rpy="0 0 0" xyz="0 0 0"/>
      <geometry>
        <mesh filename="4fcd289d3e82bb08588f04a271bfa5eb1_convex_piece_27.obj" scale="1.0000E+00"/>
      </geometry>
      <material name="">
        <color rgba="7.50E-01 7.50E-01 7.50E-01 1"/>
      </material>
    </visual>
    <collision>
      <origin rpy="0 0 0" xyz="0 0 0"/>
      <geometry>
        <mesh filename="4fcd289d3e82bb08588f04a271bfa5eb1_convex_piece_27.obj" scale="1.0000E+00"/>
      </geometry>
    </collision>
  </link>
  <joint name="link_4fcd289d3e82bb08588f04a271bfa5eb1_convex_piece_27_joint" type="fixed">
    <origin rpy="0 0 0" xyz="0 0 0"/>
    <parent link="link_4fcd289d3e82bb08588f04a271bfa5eb1_convex_piece_26"/>
    <child link="link_4fcd289d3e82bb08588f04a271bfa5eb1_convex_piece_27"/>
  </joint>
  <link name="link_4fcd289d3e82bb08588f04a271bfa5eb1_convex_piece_28">
    <inertial>
      <origin rpy="0 0 0" xyz="0 0 0"/>
      <mass value="4.30E-08"/>
      <inertia ixx="6.54E-11" ixy="2.74E-12" ixz="8.65E-12" iyy="6.09E-11" iyz="1.86E-11" izz="7.38E-12"/>
    </inertial>
    <visual>
      <origin rpy="0 0 0" xyz="0 0 0"/>
      <geometry>
        <mesh filename="4fcd289d3e82bb08588f04a271bfa5eb1_convex_piece_28.obj" scale="1.0000E+00"/>
      </geometry>
      <material name="">
        <color rgba="7.50E-01 7.50E-01 7.50E-01 1"/>
      </material>
    </visual>
    <collision>
      <origin rpy="0 0 0" xyz="0 0 0"/>
      <geometry>
        <mesh filename="4fcd289d3e82bb08588f04a271bfa5eb1_convex_piece_28.obj" scale="1.0000E+00"/>
      </geometry>
    </collision>
  </link>
  <joint name="link_4fcd289d3e82bb08588f04a271bfa5eb1_convex_piece_28_joint" type="fixed">
    <origin rpy="0 0 0" xyz="0 0 0"/>
    <parent link="link_4fcd289d3e82bb08588f04a271bfa5eb1_convex_piece_27"/>
    <child link="link_4fcd289d3e82bb08588f04a271bfa5eb1_convex_piece_28"/>
  </joint>
  <link name="link_4fcd289d3e82bb08588f04a271bfa5eb1_convex_piece_29">
    <inertial>
      <origin rpy="0 0 0" xyz="0 0 0"/>
      <mass value="5.82E-08"/>
      <inertia ixx="9.48E-11" ixy="9.67E-12" ixz="2.95E-11" iyy="9.58E-11" iyz="2.80E-11" izz="1.99E-11"/>
    </inertial>
    <visual>
      <origin rpy="0 0 0" xyz="0 0 0"/>
      <geometry>
        <mesh filename="4fcd289d3e82bb08588f04a271bfa5eb1_convex_piece_29.obj" scale="1.0000E+00"/>
      </geometry>
      <material name="">
        <color rgba="7.50E-01 7.50E-01 7.50E-01 1"/>
      </material>
    </visual>
    <collision>
      <origin rpy="0 0 0" xyz="0 0 0"/>
      <geometry>
        <mesh filename="4fcd289d3e82bb08588f04a271bfa5eb1_convex_piece_29.obj" scale="1.0000E+00"/>
      </geometry>
    </collision>
  </link>
  <joint name="link_4fcd289d3e82bb08588f04a271bfa5eb1_convex_piece_29_joint" type="fixed">
    <origin rpy="0 0 0" xyz="0 0 0"/>
    <parent link="link_4fcd289d3e82bb08588f04a271bfa5eb1_convex_piece_28"/>
    <child link="link_4fcd289d3e82bb08588f04a271bfa5eb1_convex_piece_29"/>
  </joint>
  <link name="link_4fcd289d3e82bb08588f04a271bfa5eb1_convex_piece_30">
    <inertial>
      <origin rpy="0 0 0" xyz="0 0 0"/>
      <mass value="6.38E-08"/>
      <inertia ixx="7.26E-11" ixy="-2.17E-12" ixz="-2.60E-11" iyy="8.14E-11" iyz="6.18E-12" izz="1.05E-11"/>
    </inertial>
    <visual>
      <origin rpy="0 0 0" xyz="0 0 0"/>
      <geometry>
        <mesh filename="4fcd289d3e82bb08588f04a271bfa5eb1_convex_piece_30.obj" scale="1.0000E+00"/>
      </geometry>
      <material name="">
        <color rgba="7.50E-01 7.50E-01 7.50E-01 1"/>
      </material>
    </visual>
    <collision>
      <origin rpy="0 0 0" xyz="0 0 0"/>
      <geometry>
        <mesh filename="4fcd289d3e82bb08588f04a271bfa5eb1_convex_piece_30.obj" scale="1.0000E+00"/>
      </geometry>
    </collision>
  </link>
  <joint name="link_4fcd289d3e82bb08588f04a271bfa5eb1_convex_piece_30_joint" type="fixed">
    <origin rpy="0 0 0" xyz="0 0 0"/>
    <parent link="link_4fcd289d3e82bb08588f04a271bfa5eb1_convex_piece_29"/>
    <child link="link_4fcd289d3e82bb08588f04a271bfa5eb1_convex_piece_30"/>
  </joint>
  <link name="link_4fcd289d3e82bb08588f04a271bfa5eb1_convex_piece_31">
    <inertial>
      <origin rpy="0 0 0" xyz="0 0 0"/>
      <mass value="6.03E-08"/>
      <inertia ixx="5.00E-11" ixy="-3.62E-12" ixz="-2.13E-11" iyy="5.76E-11" iyz="8.68E-12" izz="1.17E-11"/>
    </inertial>
    <visual>
      <origin rpy="0 0 0" xyz="0 0 0"/>
      <geometry>
        <mesh filename="4fcd289d3e82bb08588f04a271bfa5eb1_convex_piece_31.obj" scale="1.0000E+00"/>
      </geometry>
      <material name="">
        <color rgba="7.50E-01 7.50E-01 7.50E-01 1"/>
      </material>
    </visual>
    <collision>
      <origin rpy="0 0 0" xyz="0 0 0"/>
      <geometry>
        <mesh filename="4fcd289d3e82bb08588f04a271bfa5eb1_convex_piece_31.obj" scale="1.0000E+00"/>
      </geometry>
    </collision>
  </link>
  <joint name="link_4fcd289d3e82bb08588f04a271bfa5eb1_convex_piece_31_joint" type="fixed">
    <origin rpy="0 0 0" xyz="0 0 0"/>
    <parent link="link_4fcd289d3e82bb08588f04a271bfa5eb1_convex_piece_30"/>
    <child link="link_4fcd289d3e82bb08588f04a271bfa5eb1_convex_piece_31"/>
  </joint>
  <link name="link_4fcd289d3e82bb08588f04a271bfa5eb1_convex_piece_32">
    <inertial>
      <origin rpy="0 0 0" xyz="0 0 0"/>
      <mass value="3.48E-08"/>
      <inertia ixx="1.84E-11" ixy="-3.55E-12" ixz="-6.84E-12" iyy="1.78E-11" iyz="7.38E-12" izz="7.18E-12"/>
    </inertial>
    <visual>
      <origin rpy="0 0 0" xyz="0 0 0"/>
      <geometry>
        <mesh filename="4fcd289d3e82bb08588f04a271bfa5eb1_convex_piece_32.obj" scale="1.0000E+00"/>
      </geometry>
      <material name="">
        <color rgba="7.50E-01 7.50E-01 7.50E-01 1"/>
      </material>
    </visual>
    <collision>
      <origin rpy="0 0 0" xyz="0 0 0"/>
      <geometry>
        <mesh filename="4fcd289d3e82bb08588f04a271bfa5eb1_convex_piece_32.obj" scale="1.0000E+00"/>
      </geometry>
    </collision>
  </link>
  <joint name="link_4fcd289d3e82bb08588f04a271bfa5eb1_convex_piece_32_joint" type="fixed">
    <origin rpy="0 0 0" xyz="0 0 0"/>
    <parent link="link_4fcd289d3e82bb08588f04a271bfa5eb1_convex_piece_31"/>
    <child link="link_4fcd289d3e82bb08588f04a271bfa5eb1_convex_piece_32"/>
  </joint>
  <link name="link_4fcd289d3e82bb08588f04a271bfa5eb1_convex_piece_33">
    <inertial>
      <origin rpy="0 0 0" xyz="0 0 0"/>
      <mass value="4.39E-08"/>
      <inertia ixx="2.31E-11" ixy="-2.17E-12" ixz="-1.15E-11" iyy="2.81E-11" iyz="4.21E-12" izz="6.98E-12"/>
    </inertial>
    <visual>
      <origin rpy="0 0 0" xyz="0 0 0"/>
      <geometry>
        <mesh filename="4fcd289d3e82bb08588f04a271bfa5eb1_convex_piece_33.obj" scale="1.0000E+00"/>
      </geometry>
      <material name="">
        <color rgba="7.50E-01 7.50E-01 7.50E-01 1"/>
      </material>
    </visual>
    <collision>
      <origin rpy="0 0 0" xyz="0 0 0"/>
      <geometry>
        <mesh filename="4fcd289d3e82bb08588f04a271bfa5eb1_convex_piece_33.obj" scale="1.0000E+00"/>
      </geometry>
    </collision>
  </link>
  <joint name="link_4fcd289d3e82bb08588f04a271bfa5eb1_convex_piece_33_joint" type="fixed">
    <origin rpy="0 0 0" xyz="0 0 0"/>
    <parent link="link_4fcd289d3e82bb08588f04a271bfa5eb1_convex_piece_32"/>
    <child link="link_4fcd289d3e82bb08588f04a271bfa5eb1_convex_piece_33"/>
  </joint>
  <link name="link_4fcd289d3e82bb08588f04a271bfa5eb1_convex_piece_34">
    <inertial>
      <origin rpy="0 0 0" xyz="0 0 0"/>
      <mass value="8.39E-08"/>
      <inertia ixx="3.27E-11" ixy="-3.05E-12" ixz="1.76E-11" iyy="4.18E-11" iyz="-5.13E-12" izz="1.12E-11"/>
    </inertial>
    <visual>
      <origin rpy="0 0 0" xyz="0 0 0"/>
      <geometry>
        <mesh filename="4fcd289d3e82bb08588f04a271bfa5eb1_convex_piece_34.obj" scale="1.0000E+00"/>
      </geometry>
      <material name="">
        <color rgba="7.50E-01 7.50E-01 7.50E-01 1"/>
      </material>
    </visual>
    <collision>
      <origin rpy="0 0 0" xyz="0 0 0"/>
      <geometry>
        <mesh filename="4fcd289d3e82bb08588f04a271bfa5eb1_convex_piece_34.obj" scale="1.0000E+00"/>
      </geometry>
    </collision>
  </link>
  <joint name="link_4fcd289d3e82bb08588f04a271bfa5eb1_convex_piece_34_joint" type="fixed">
    <origin rpy="0 0 0" xyz="0 0 0"/>
    <parent link="link_4fcd289d3e82bb08588f04a271bfa5eb1_convex_piece_33"/>
    <child link="link_4fcd289d3e82bb08588f04a271bfa5eb1_convex_piece_34"/>
  </joint>
  <link name="link_4fcd289d3e82bb08588f04a271bfa5eb1_convex_piece_35">
    <inertial>
      <origin rpy="0 0 0" xyz="0 0 0"/>
      <mass value="5.41E-08"/>
      <inertia ixx="2.36E-11" ixy="-5.11E-12" ixz="1.23E-11" iyy="2.78E-11" iyz="-8.22E-12" izz="1.11E-11"/>
    </inertial>
    <visual>
      <origin rpy="0 0 0" xyz="0 0 0"/>
      <geometry>
        <mesh filename="4fcd289d3e82bb08588f04a271bfa5eb1_convex_piece_35.obj" scale="1.0000E+00"/>
      </geometry>
      <material name="">
        <color rgba="7.50E-01 7.50E-01 7.50E-01 1"/>
      </material>
    </visual>
    <collision>
      <origin rpy="0 0 0" xyz="0 0 0"/>
      <geometry>
        <mesh filename="4fcd289d3e82bb08588f04a271bfa5eb1_convex_piece_35.obj" scale="1.0000E+00"/>
      </geometry>
    </collision>
  </link>
  <joint name="link_4fcd289d3e82bb08588f04a271bfa5eb1_convex_piece_35_joint" type="fixed">
    <origin rpy="0 0 0" xyz="0 0 0"/>
    <parent link="link_4fcd289d3e82bb08588f04a271bfa5eb1_convex_piece_34"/>
    <child link="link_4fcd289d3e82bb08588f04a271bfa5eb1_convex_piece_35"/>
  </joint>
  <link name="link_4fcd289d3e82bb08588f04a271bfa5eb1_convex_piece_36">
    <inertial>
      <origin rpy="0 0 0" xyz="0 0 0"/>
      <mass value="1.24E-07"/>
      <inertia ixx="7.73E-11" ixy="-1.07E-11" ixz="1.82E-11" iyy="6.34E-11" iyz="-3.35E-11" izz="2.73E-11"/>
    </inertial>
    <visual>
      <origin rpy="0 0 0" xyz="0 0 0"/>
      <geometry>
        <mesh filename="4fcd289d3e82bb08588f04a271bfa5eb1_convex_piece_36.obj" scale="1.0000E+00"/>
      </geometry>
      <material name="">
        <color rgba="7.50E-01 7.50E-01 7.50E-01 1"/>
      </material>
    </visual>
    <collision>
      <origin rpy="0 0 0" xyz="0 0 0"/>
      <geometry>
        <mesh filename="4fcd289d3e82bb08588f04a271bfa5eb1_convex_piece_36.obj" scale="1.0000E+00"/>
      </geometry>
    </collision>
  </link>
  <joint name="link_4fcd289d3e82bb08588f04a271bfa5eb1_convex_piece_36_joint" type="fixed">
    <origin rpy="0 0 0" xyz="0 0 0"/>
    <parent link="link_4fcd289d3e82bb08588f04a271bfa5eb1_convex_piece_35"/>
    <child link="link_4fcd289d3e82bb08588f04a271bfa5eb1_convex_piece_36"/>
  </joint>
  <link name="link_4fcd289d3e82bb08588f04a271bfa5eb1_convex_piece_37">
    <inertial>
      <origin rpy="0 0 0" xyz="0 0 0"/>
      <mass value="3.65E-08"/>
      <inertia ixx="2.62E-11" ixy="-2.74E-13" ixz="3.43E-13" iyy="1.76E-11" iyz="-1.22E-11" izz="8.72E-12"/>
    </inertial>
    <visual>
      <origin rpy="0 0 0" xyz="0 0 0"/>
      <geometry>
        <mesh filename="4fcd289d3e82bb08588f04a271bfa5eb1_convex_piece_37.obj" scale="1.0000E+00"/>
      </geometry>
      <material name="">
        <color rgba="7.50E-01 7.50E-01 7.50E-01 1"/>
      </material>
    </visual>
    <collision>
      <origin rpy="0 0 0" xyz="0 0 0"/>
      <geometry>
        <mesh filename="4fcd289d3e82bb08588f04a271bfa5eb1_convex_piece_37.obj" scale="1.0000E+00"/>
      </geometry>
    </collision>
  </link>
  <joint name="link_4fcd289d3e82bb08588f04a271bfa5eb1_convex_piece_37_joint" type="fixed">
    <origin rpy="0 0 0" xyz="0 0 0"/>
    <parent link="link_4fcd289d3e82bb08588f04a271bfa5eb1_convex_piece_36"/>
    <child link="link_4fcd289d3e82bb08588f04a271bfa5eb1_convex_piece_37"/>
  </joint>
  <link name="link_4fcd289d3e82bb08588f04a271bfa5eb1_convex_piece_38">
    <inertial>
      <origin rpy="0 0 0" xyz="0 0 0"/>
      <mass value="1.59E-07"/>
      <inertia ixx="2.05E-10" ixy="7.42E-12" ixz="-4.40E-11" iyy="2.09E-10" iyz="-3.44E-11" izz="1.90E-11"/>
    </inertial>
    <visual>
      <origin rpy="0 0 0" xyz="0 0 0"/>
      <geometry>
        <mesh filename="4fcd289d3e82bb08588f04a271bfa5eb1_convex_piece_38.obj" scale="1.0000E+00"/>
      </geometry>
      <material name="">
        <color rgba="7.50E-01 7.50E-01 7.50E-01 1"/>
      </material>
    </visual>
    <collision>
      <origin rpy="0 0 0" xyz="0 0 0"/>
      <geometry>
        <mesh filename="4fcd289d3e82bb08588f04a271bfa5eb1_convex_piece_38.obj" scale="1.0000E+00"/>
      </geometry>
    </collision>
  </link>
  <joint name="link_4fcd289d3e82bb08588f04a271bfa5eb1_convex_piece_38_joint" type="fixed">
    <origin rpy="0 0 0" xyz="0 0 0"/>
    <parent link="link_4fcd289d3e82bb08588f04a271bfa5eb1_convex_piece_37"/>
    <child link="link_4fcd289d3e82bb08588f04a271bfa5eb1_convex_piece_38"/>
  </joint>
  <link name="link_4fcd289d3e82bb08588f04a271bfa5eb1_convex_piece_39">
    <inertial>
      <origin rpy="0 0 0" xyz="0 0 0"/>
      <mass value="4.00E-08"/>
      <inertia ixx="1.07E-11" ixy="-2.28E-12" ixz="-1.42E-12" iyy="4.09E-12" iyz="4.79E-12" izz="8.13E-12"/>
    </inertial>
    <visual>
      <origin rpy="0 0 0" xyz="0 0 0"/>
      <geometry>
        <mesh filename="4fcd289d3e82bb08588f04a271bfa5eb1_convex_piece_39.obj" scale="1.0000E+00"/>
      </geometry>
      <material name="">
        <color rgba="7.50E-01 7.50E-01 7.50E-01 1"/>
      </material>
    </visual>
    <collision>
      <origin rpy="0 0 0" xyz="0 0 0"/>
      <geometry>
        <mesh filename="4fcd289d3e82bb08588f04a271bfa5eb1_convex_piece_39.obj" scale="1.0000E+00"/>
      </geometry>
    </collision>
  </link>
  <joint name="link_4fcd289d3e82bb08588f04a271bfa5eb1_convex_piece_39_joint" type="fixed">
    <origin rpy="0 0 0" xyz="0 0 0"/>
    <parent link="link_4fcd289d3e82bb08588f04a271bfa5eb1_convex_piece_38"/>
    <child link="link_4fcd289d3e82bb08588f04a271bfa5eb1_convex_piece_39"/>
  </joint>
  <link name="link_4fcd289d3e82bb08588f04a271bfa5eb1_convex_piece_40">
    <inertial>
      <origin rpy="0 0 0" xyz="0 0 0"/>
      <mass value="3.73E-08"/>
      <inertia ixx="3.67E-12" ixy="-1.45E-12" ixz="2.04E-13" iyy="1.08E-12" iyz="-2.27E-13" izz="3.95E-12"/>
    </inertial>
    <visual>
      <origin rpy="0 0 0" xyz="0 0 0"/>
      <geometry>
        <mesh filename="4fcd289d3e82bb08588f04a271bfa5eb1_convex_piece_40.obj" scale="1.0000E+00"/>
      </geometry>
      <material name="">
        <color rgba="7.50E-01 7.50E-01 7.50E-01 1"/>
      </material>
    </visual>
    <collision>
      <origin rpy="0 0 0" xyz="0 0 0"/>
      <geometry>
        <mesh filename="4fcd289d3e82bb08588f04a271bfa5eb1_convex_piece_40.obj" scale="1.0000E+00"/>
      </geometry>
    </collision>
  </link>
  <joint name="link_4fcd289d3e82bb08588f04a271bfa5eb1_convex_piece_40_joint" type="fixed">
    <origin rpy="0 0 0" xyz="0 0 0"/>
    <parent link="link_4fcd289d3e82bb08588f04a271bfa5eb1_convex_piece_39"/>
    <child link="link_4fcd289d3e82bb08588f04a271bfa5eb1_convex_piece_40"/>
  </joint>
  <link name="link_4fcd289d3e82bb08588f04a271bfa5eb1_convex_piece_41">
    <inertial>
      <origin rpy="0 0 0" xyz="0 0 0"/>
      <mass value="2.21E-07"/>
      <inertia ixx="5.16E-11" ixy="4.70E-12" ixz="-1.53E-11" iyy="5.75E-11" iyz="-9.10E-12" izz="1.21E-11"/>
    </inertial>
    <visual>
      <origin rpy="0 0 0" xyz="0 0 0"/>
      <geometry>
        <mesh filename="4fcd289d3e82bb08588f04a271bfa5eb1_convex_piece_41.obj" scale="1.0000E+00"/>
      </geometry>
      <material name="">
        <color rgba="7.50E-01 7.50E-01 7.50E-01 1"/>
      </material>
    </visual>
    <collision>
      <origin rpy="0 0 0" xyz="0 0 0"/>
      <geometry>
        <mesh filename="4fcd289d3e82bb08588f04a271bfa5eb1_convex_piece_41.obj" scale="1.0000E+00"/>
      </geometry>
    </collision>
  </link>
  <joint name="link_4fcd289d3e82bb08588f04a271bfa5eb1_convex_piece_41_joint" type="fixed">
    <origin rpy="0 0 0" xyz="0 0 0"/>
    <parent link="link_4fcd289d3e82bb08588f04a271bfa5eb1_convex_piece_40"/>
    <child link="link_4fcd289d3e82bb08588f04a271bfa5eb1_convex_piece_41"/>
  </joint>
  <link name="link_4fcd289d3e82bb08588f04a271bfa5eb1_convex_piece_42">
    <inertial>
      <origin rpy="0 0 0" xyz="0 0 0"/>
      <mass value="1.45E-08"/>
      <inertia ixx="1.02E-11" ixy="1.03E-13" ixz="6.98E-12" iyy="1.50E-11" iyz="1.58E-13" izz="4.82E-12"/>
    </inertial>
    <visual>
      <origin rpy="0 0 0" xyz="0 0 0"/>
      <geometry>
        <mesh filename="4fcd289d3e82bb08588f04a271bfa5eb1_convex_piece_42.obj" scale="1.0000E+00"/>
      </geometry>
      <material name="">
        <color rgba="7.50E-01 7.50E-01 7.50E-01 1"/>
      </material>
    </visual>
    <collision>
      <origin rpy="0 0 0" xyz="0 0 0"/>
      <geometry>
        <mesh filename="4fcd289d3e82bb08588f04a271bfa5eb1_convex_piece_42.obj" scale="1.0000E+00"/>
      </geometry>
    </collision>
  </link>
  <joint name="link_4fcd289d3e82bb08588f04a271bfa5eb1_convex_piece_42_joint" type="fixed">
    <origin rpy="0 0 0" xyz="0 0 0"/>
    <parent link="link_4fcd289d3e82bb08588f04a271bfa5eb1_convex_piece_41"/>
    <child link="link_4fcd289d3e82bb08588f04a271bfa5eb1_convex_piece_42"/>
  </joint>
  <link name="link_4fcd289d3e82bb08588f04a271bfa5eb1_convex_piece_43">
    <inertial>
      <origin rpy="0 0 0" xyz="0 0 0"/>
      <mass value="4.18E-08"/>
      <inertia ixx="4.60E-11" ixy="1.17E-12" ixz="2.24E-11" iyy="5.70E-11" iyz="2.24E-12" izz="1.14E-11"/>
    </inertial>
    <visual>
      <origin rpy="0 0 0" xyz="0 0 0"/>
      <geometry>
        <mesh filename="4fcd289d3e82bb08588f04a271bfa5eb1_convex_piece_43.obj" scale="1.0000E+00"/>
      </geometry>
      <material name="">
        <color rgba="7.50E-01 7.50E-01 7.50E-01 1"/>
      </material>
    </visual>
    <collision>
      <origin rpy="0 0 0" xyz="0 0 0"/>
      <geometry>
        <mesh filename="4fcd289d3e82bb08588f04a271bfa5eb1_convex_piece_43.obj" scale="1.0000E+00"/>
      </geometry>
    </collision>
  </link>
  <joint name="link_4fcd289d3e82bb08588f04a271bfa5eb1_convex_piece_43_joint" type="fixed">
    <origin rpy="0 0 0" xyz="0 0 0"/>
    <parent link="link_4fcd289d3e82bb08588f04a271bfa5eb1_convex_piece_42"/>
    <child link="link_4fcd289d3e82bb08588f04a271bfa5eb1_convex_piece_43"/>
  </joint>
  <link name="link_4fcd289d3e82bb08588f04a271bfa5eb1_convex_piece_44">
    <inertial>
      <origin rpy="0 0 0" xyz="0 0 0"/>
      <mass value="5.15E-08"/>
      <inertia ixx="7.80E-11" ixy="4.26E-12" ixz="3.02E-11" iyy="8.84E-11" iyz="1.07E-11" izz="1.39E-11"/>
    </inertial>
    <visual>
      <origin rpy="0 0 0" xyz="0 0 0"/>
      <geometry>
        <mesh filename="4fcd289d3e82bb08588f04a271bfa5eb1_convex_piece_44.obj" scale="1.0000E+00"/>
      </geometry>
      <material name="">
        <color rgba="7.50E-01 7.50E-01 7.50E-01 1"/>
      </material>
    </visual>
    <collision>
      <origin rpy="0 0 0" xyz="0 0 0"/>
      <geometry>
        <mesh filename="4fcd289d3e82bb08588f04a271bfa5eb1_convex_piece_44.obj" scale="1.0000E+00"/>
      </geometry>
    </collision>
  </link>
  <joint name="link_4fcd289d3e82bb08588f04a271bfa5eb1_convex_piece_44_joint" type="fixed">
    <origin rpy="0 0 0" xyz="0 0 0"/>
    <parent link="link_4fcd289d3e82bb08588f04a271bfa5eb1_convex_piece_43"/>
    <child link="link_4fcd289d3e82bb08588f04a271bfa5eb1_convex_piece_44"/>
  </joint>
  <link name="link_4fcd289d3e82bb08588f04a271bfa5eb1_convex_piece_45">
    <inertial>
      <origin rpy="0 0 0" xyz="0 0 0"/>
      <mass value="8.91E-08"/>
      <inertia ixx="1.35E-10" ixy="1.16E-11" ixz="-2.81E-11" iyy="1.23E-10" iyz="-4.73E-11" izz="2.74E-11"/>
    </inertial>
    <visual>
      <origin rpy="0 0 0" xyz="0 0 0"/>
      <geometry>
        <mesh filename="4fcd289d3e82bb08588f04a271bfa5eb1_convex_piece_45.obj" scale="1.0000E+00"/>
      </geometry>
      <material name="">
        <color rgba="7.50E-01 7.50E-01 7.50E-01 1"/>
      </material>
    </visual>
    <collision>
      <origin rpy="0 0 0" xyz="0 0 0"/>
      <geometry>
        <mesh filename="4fcd289d3e82bb08588f04a271bfa5eb1_convex_piece_45.obj" scale="1.0000E+00"/>
      </geometry>
    </collision>
  </link>
  <joint name="link_4fcd289d3e82bb08588f04a271bfa5eb1_convex_piece_45_joint" type="fixed">
    <origin rpy="0 0 0" xyz="0 0 0"/>
    <parent link="link_4fcd289d3e82bb08588f04a271bfa5eb1_convex_piece_44"/>
    <child link="link_4fcd289d3e82bb08588f04a271bfa5eb1_convex_piece_45"/>
  </joint>
  <link name="link_4fcd289d3e82bb08588f04a271bfa5eb1_convex_piece_46">
    <inertial>
      <origin rpy="0 0 0" xyz="0 0 0"/>
      <mass value="9.09E-08"/>
      <inertia ixx="1.28E-10" ixy="9.75E-12" ixz="-5.80E-11" iyy="1.51E-10" iyz="-2.05E-11" izz="3.15E-11"/>
    </inertial>
    <visual>
      <origin rpy="0 0 0" xyz="0 0 0"/>
      <geometry>
        <mesh filename="4fcd289d3e82bb08588f04a271bfa5eb1_convex_piece_46.obj" scale="1.0000E+00"/>
      </geometry>
      <material name="">
        <color rgba="7.50E-01 7.50E-01 7.50E-01 1"/>
      </material>
    </visual>
    <collision>
      <origin rpy="0 0 0" xyz="0 0 0"/>
      <geometry>
        <mesh filename="4fcd289d3e82bb08588f04a271bfa5eb1_convex_piece_46.obj" scale="1.0000E+00"/>
      </geometry>
    </collision>
  </link>
  <joint name="link_4fcd289d3e82bb08588f04a271bfa5eb1_convex_piece_46_joint" type="fixed">
    <origin rpy="0 0 0" xyz="0 0 0"/>
    <parent link="link_4fcd289d3e82bb08588f04a271bfa5eb1_convex_piece_45"/>
    <child link="link_4fcd289d3e82bb08588f04a271bfa5eb1_convex_piece_46"/>
  </joint>
  <link name="link_4fcd289d3e82bb08588f04a271bfa5eb1_convex_piece_47">
    <inertial>
      <origin rpy="0 0 0" xyz="0 0 0"/>
      <mass value="4.04E-08"/>
      <inertia ixx="4.16E-11" ixy="3.73E-12" ixz="-2.28E-11" iyy="5.32E-11" iyz="-6.48E-12" izz="1.42E-11"/>
    </inertial>
    <visual>
      <origin rpy="0 0 0" xyz="0 0 0"/>
      <geometry>
        <mesh filename="4fcd289d3e82bb08588f04a271bfa5eb1_convex_piece_47.obj" scale="1.0000E+00"/>
      </geometry>
      <material name="">
        <color rgba="7.50E-01 7.50E-01 7.50E-01 1"/>
      </material>
    </visual>
    <collision>
      <origin rpy="0 0 0" xyz="0 0 0"/>
      <geometry>
        <mesh filename="4fcd289d3e82bb08588f04a271bfa5eb1_convex_piece_47.obj" scale="1.0000E+00"/>
      </geometry>
    </collision>
  </link>
  <joint name="link_4fcd289d3e82bb08588f04a271bfa5eb1_convex_piece_47_joint" type="fixed">
    <origin rpy="0 0 0" xyz="0 0 0"/>
    <parent link="link_4fcd289d3e82bb08588f04a271bfa5eb1_convex_piece_46"/>
    <child link="link_4fcd289d3e82bb08588f04a271bfa5eb1_convex_piece_47"/>
  </joint>
  <link name="link_4fcd289d3e82bb08588f04a271bfa5eb1_convex_piece_48">
    <inertial>
      <origin rpy="0 0 0" xyz="0 0 0"/>
      <mass value="8.32E-08"/>
      <inertia ixx="3.79E-12" ixy="-9.91E-13" ixz="1.05E-12" iyy="2.68E-12" iyz="-1.39E-12" izz="2.48E-12"/>
    </inertial>
    <visual>
      <origin rpy="0 0 0" xyz="0 0 0"/>
      <geometry>
        <mesh filename="4fcd289d3e82bb08588f04a271bfa5eb1_convex_piece_48.obj" scale="1.0000E+00"/>
      </geometry>
      <material name="">
        <color rgba="7.50E-01 7.50E-01 7.50E-01 1"/>
      </material>
    </visual>
    <collision>
      <origin rpy="0 0 0" xyz="0 0 0"/>
      <geometry>
        <mesh filename="4fcd289d3e82bb08588f04a271bfa5eb1_convex_piece_48.obj" scale="1.0000E+00"/>
      </geometry>
    </collision>
  </link>
  <joint name="link_4fcd289d3e82bb08588f04a271bfa5eb1_convex_piece_48_joint" type="fixed">
    <origin rpy="0 0 0" xyz="0 0 0"/>
    <parent link="link_4fcd289d3e82bb08588f04a271bfa5eb1_convex_piece_47"/>
    <child link="link_4fcd289d3e82bb08588f04a271bfa5eb1_convex_piece_48"/>
  </joint>
  <link name="link_4fcd289d3e82bb08588f04a271bfa5eb1_convex_piece_49">
    <inertial>
      <origin rpy="0 0 0" xyz="0 0 0"/>
      <mass value="4.02E-07"/>
      <inertia ixx="2.22E-10" ixy="-3.67E-12" ixz="1.92E-11" iyy="2.19E-10" iyz="-3.22E-11" izz="1.07E-11"/>
    </inertial>
    <visual>
      <origin rpy="0 0 0" xyz="0 0 0"/>
      <geometry>
        <mesh filename="4fcd289d3e82bb08588f04a271bfa5eb1_convex_piece_49.obj" scale="1.0000E+00"/>
      </geometry>
      <material name="">
        <color rgba="7.50E-01 7.50E-01 7.50E-01 1"/>
      </material>
    </visual>
    <collision>
      <origin rpy="0 0 0" xyz="0 0 0"/>
      <geometry>
        <mesh filename="4fcd289d3e82bb08588f04a271bfa5eb1_convex_piece_49.obj" scale="1.0000E+00"/>
      </geometry>
    </collision>
  </link>
  <joint name="link_4fcd289d3e82bb08588f04a271bfa5eb1_convex_piece_49_joint" type="fixed">
    <origin rpy="0 0 0" xyz="0 0 0"/>
    <parent link="link_4fcd289d3e82bb08588f04a271bfa5eb1_convex_piece_48"/>
    <child link="link_4fcd289d3e82bb08588f04a271bfa5eb1_convex_piece_49"/>
  </joint>
  <link name="link_4fcd289d3e82bb08588f04a271bfa5eb1_convex_piece_50">
    <inertial>
      <origin rpy="0 0 0" xyz="0 0 0"/>
      <mass value="3.09E-08"/>
      <inertia ixx="4.53E-11" ixy="2.95E-13" ixz="1.01E-11" iyy="4.76E-11" iyz="1.39E-12" izz="2.45E-12"/>
    </inertial>
    <visual>
      <origin rpy="0 0 0" xyz="0 0 0"/>
      <geometry>
        <mesh filename="4fcd289d3e82bb08588f04a271bfa5eb1_convex_piece_50.obj" scale="1.0000E+00"/>
      </geometry>
      <material name="">
        <color rgba="7.50E-01 7.50E-01 7.50E-01 1"/>
      </material>
    </visual>
    <collision>
      <origin rpy="0 0 0" xyz="0 0 0"/>
      <geometry>
        <mesh filename="4fcd289d3e82bb08588f04a271bfa5eb1_convex_piece_50.obj" scale="1.0000E+00"/>
      </geometry>
    </collision>
  </link>
  <joint name="link_4fcd289d3e82bb08588f04a271bfa5eb1_convex_piece_50_joint" type="fixed">
    <origin rpy="0 0 0" xyz="0 0 0"/>
    <parent link="link_4fcd289d3e82bb08588f04a271bfa5eb1_convex_piece_49"/>
    <child link="link_4fcd289d3e82bb08588f04a271bfa5eb1_convex_piece_50"/>
  </joint>
  <link name="link_4fcd289d3e82bb08588f04a271bfa5eb1_convex_piece_51">
    <inertial>
      <origin rpy="0 0 0" xyz="0 0 0"/>
      <mass value="3.36E-08"/>
      <inertia ixx="5.54E-11" ixy="1.79E-12" ixz="1.12E-11" iyy="5.64E-11" iyz="8.66E-12" izz="3.94E-12"/>
    </inertial>
    <visual>
      <origin rpy="0 0 0" xyz="0 0 0"/>
      <geometry>
        <mesh filename="4fcd289d3e82bb08588f04a271bfa5eb1_convex_piece_51.obj" scale="1.0000E+00"/>
      </geometry>
      <material name="">
        <color rgba="7.50E-01 7.50E-01 7.50E-01 1"/>
      </material>
    </visual>
    <collision>
      <origin rpy="0 0 0" xyz="0 0 0"/>
      <geometry>
        <mesh filename="4fcd289d3e82bb08588f04a271bfa5eb1_convex_piece_51.obj" scale="1.0000E+00"/>
      </geometry>
    </collision>
  </link>
  <joint name="link_4fcd289d3e82bb08588f04a271bfa5eb1_convex_piece_51_joint" type="fixed">
    <origin rpy="0 0 0" xyz="0 0 0"/>
    <parent link="link_4fcd289d3e82bb08588f04a271bfa5eb1_convex_piece_50"/>
    <child link="link_4fcd289d3e82bb08588f04a271bfa5eb1_convex_piece_51"/>
  </joint>
  <link name="link_4fcd289d3e82bb08588f04a271bfa5eb1_convex_piece_52">
    <inertial>
      <origin rpy="0 0 0" xyz="0 0 0"/>
      <mass value="1.60E-08"/>
      <inertia ixx="2.00E-11" ixy="1.36E-12" ixz="-2.58E-12" iyy="1.61E-11" iyz="-8.28E-12" izz="4.86E-12"/>
    </inertial>
    <visual>
      <origin rpy="0 0 0" xyz="0 0 0"/>
      <geometry>
        <mesh filename="4fcd289d3e82bb08588f04a271bfa5eb1_convex_piece_52.obj" scale="1.0000E+00"/>
      </geometry>
      <material name="">
        <color rgba="7.50E-01 7.50E-01 7.50E-01 1"/>
      </material>
    </visual>
    <collision>
      <origin rpy="0 0 0" xyz="0 0 0"/>
      <geometry>
        <mesh filename="4fcd289d3e82bb08588f04a271bfa5eb1_convex_piece_52.obj" scale="1.0000E+00"/>
      </geometry>
    </collision>
  </link>
  <joint name="link_4fcd289d3e82bb08588f04a271bfa5eb1_convex_piece_52_joint" type="fixed">
    <origin rpy="0 0 0" xyz="0 0 0"/>
    <parent link="link_4fcd289d3e82bb08588f04a271bfa5eb1_convex_piece_51"/>
    <child link="link_4fcd289d3e82bb08588f04a271bfa5eb1_convex_piece_52"/>
  </joint>
  <link name="link_4fcd289d3e82bb08588f04a271bfa5eb1_convex_piece_53">
    <inertial>
      <origin rpy="0 0 0" xyz="0 0 0"/>
      <mass value="1.68E-08"/>
      <inertia ixx="2.05E-11" ixy="3.01E-12" ixz="-5.91E-12" iyy="1.84E-11" iyz="-8.31E-12" izz="6.46E-12"/>
    </inertial>
    <visual>
      <origin rpy="0 0 0" xyz="0 0 0"/>
      <geometry>
        <mesh filename="4fcd289d3e82bb08588f04a271bfa5eb1_convex_piece_53.obj" scale="1.0000E+00"/>
      </geometry>
      <material name="">
        <color rgba="7.50E-01 7.50E-01 7.50E-01 1"/>
      </material>
    </visual>
    <collision>
      <origin rpy="0 0 0" xyz="0 0 0"/>
      <geometry>
        <mesh filename="4fcd289d3e82bb08588f04a271bfa5eb1_convex_piece_53.obj" scale="1.0000E+00"/>
      </geometry>
    </collision>
  </link>
  <joint name="link_4fcd289d3e82bb08588f04a271bfa5eb1_convex_piece_53_joint" type="fixed">
    <origin rpy="0 0 0" xyz="0 0 0"/>
    <parent link="link_4fcd289d3e82bb08588f04a271bfa5eb1_convex_piece_52"/>
    <child link="link_4fcd289d3e82bb08588f04a271bfa5eb1_convex_piece_53"/>
  </joint>
  <link name="link_4fcd289d3e82bb08588f04a271bfa5eb1_convex_piece_54">
    <inertial>
      <origin rpy="0 0 0" xyz="0 0 0"/>
      <mass value="3.84E-08"/>
      <inertia ixx="6.15E-11" ixy="1.03E-11" ixz="-2.97E-11" iyy="7.09E-11" iyz="-1.90E-11" izz="2.29E-11"/>
    </inertial>
    <visual>
      <origin rpy="0 0 0" xyz="0 0 0"/>
      <geometry>
        <mesh filename="4fcd289d3e82bb08588f04a271bfa5eb1_convex_piece_54.obj" scale="1.0000E+00"/>
      </geometry>
      <material name="">
        <color rgba="7.50E-01 7.50E-01 7.50E-01 1"/>
      </material>
    </visual>
    <collision>
      <origin rpy="0 0 0" xyz="0 0 0"/>
      <geometry>
        <mesh filename="4fcd289d3e82bb08588f04a271bfa5eb1_convex_piece_54.obj" scale="1.0000E+00"/>
      </geometry>
    </collision>
  </link>
  <joint name="link_4fcd289d3e82bb08588f04a271bfa5eb1_convex_piece_54_joint" type="fixed">
    <origin rpy="0 0 0" xyz="0 0 0"/>
    <parent link="link_4fcd289d3e82bb08588f04a271bfa5eb1_convex_piece_53"/>
    <child link="link_4fcd289d3e82bb08588f04a271bfa5eb1_convex_piece_54"/>
  </joint>
  <link name="link_4fcd289d3e82bb08588f04a271bfa5eb1_convex_piece_55">
    <inertial>
      <origin rpy="0 0 0" xyz="0 0 0"/>
      <mass value="4.43E-08"/>
      <inertia ixx="5.51E-11" ixy="1.03E-11" ixz="-2.52E-11" iyy="6.06E-11" iyz="-1.94E-11" izz="2.18E-11"/>
    </inertial>
    <visual>
      <origin rpy="0 0 0" xyz="0 0 0"/>
      <geometry>
        <mesh filename="4fcd289d3e82bb08588f04a271bfa5eb1_convex_piece_55.obj" scale="1.0000E+00"/>
      </geometry>
      <material name="">
        <color rgba="7.50E-01 7.50E-01 7.50E-01 1"/>
      </material>
    </visual>
    <collision>
      <origin rpy="0 0 0" xyz="0 0 0"/>
      <geometry>
        <mesh filename="4fcd289d3e82bb08588f04a271bfa5eb1_convex_piece_55.obj" scale="1.0000E+00"/>
      </geometry>
    </collision>
  </link>
  <joint name="link_4fcd289d3e82bb08588f04a271bfa5eb1_convex_piece_55_joint" type="fixed">
    <origin rpy="0 0 0" xyz="0 0 0"/>
    <parent link="link_4fcd289d3e82bb08588f04a271bfa5eb1_convex_piece_54"/>
    <child link="link_4fcd289d3e82bb08588f04a271bfa5eb1_convex_piece_55"/>
  </joint>
  <link name="link_4fcd289d3e82bb08588f04a271bfa5eb1_convex_piece_56">
    <inertial>
      <origin rpy="0 0 0" xyz="0 0 0"/>
      <mass value="2.13E-08"/>
      <inertia ixx="3.66E-11" ixy="4.39E-12" ixz="-1.38E-11" iyy="3.91E-11" iyz="-1.06E-11" izz="9.18E-12"/>
    </inertial>
    <visual>
      <origin rpy="0 0 0" xyz="0 0 0"/>
      <geometry>
        <mesh filename="4fcd289d3e82bb08588f04a271bfa5eb1_convex_piece_56.obj" scale="1.0000E+00"/>
      </geometry>
      <material name="">
        <color rgba="7.50E-01 7.50E-01 7.50E-01 1"/>
      </material>
    </visual>
    <collision>
      <origin rpy="0 0 0" xyz="0 0 0"/>
      <geometry>
        <mesh filename="4fcd289d3e82bb08588f04a271bfa5eb1_convex_piece_56.obj" scale="1.0000E+00"/>
      </geometry>
    </collision>
  </link>
  <joint name="link_4fcd289d3e82bb08588f04a271bfa5eb1_convex_piece_56_joint" type="fixed">
    <origin rpy="0 0 0" xyz="0 0 0"/>
    <parent link="link_4fcd289d3e82bb08588f04a271bfa5eb1_convex_piece_55"/>
    <child link="link_4fcd289d3e82bb08588f04a271bfa5eb1_convex_piece_56"/>
  </joint>
</robot>
